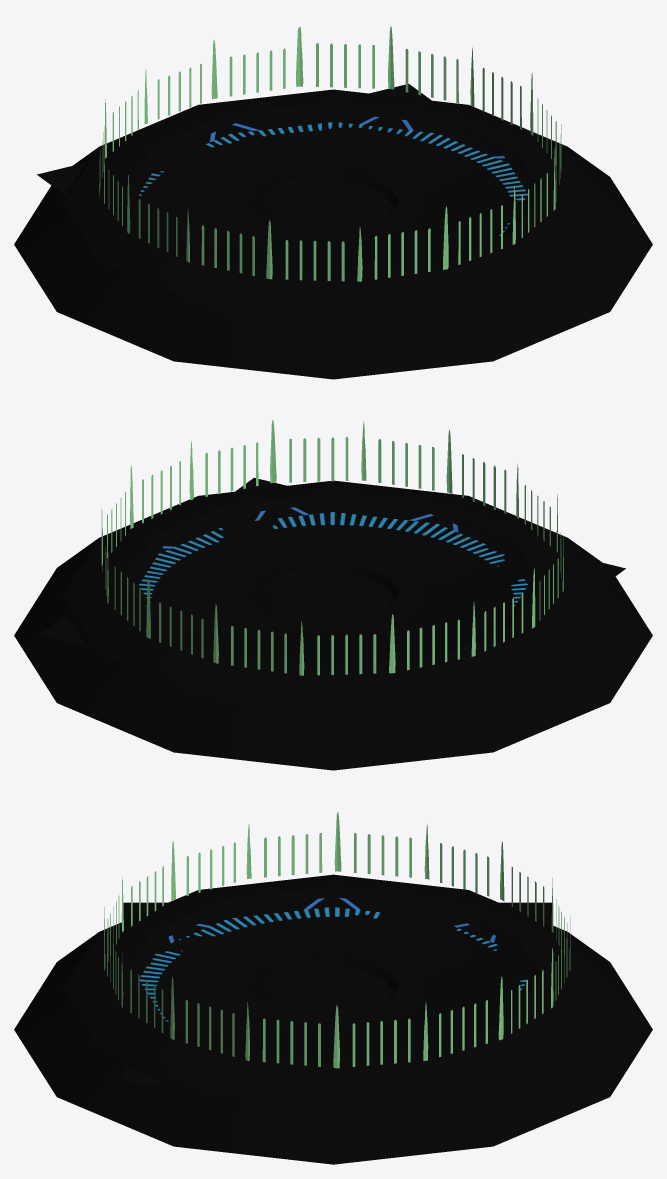
Rendered from Plate_Object.fbx.
3 renders of one model, top to bottom at view 1: azimuth 30°, elevation 25°; view 2: azimuth 150°, elevation 25°; view 3: azimuth 270°, elevation 25°, orthographic.
Visible parts, largest first — view 1: Cube, Plane.003, Cylinder, Cube.001; view 2: Cube, Plane.003, Cylinder, Cube.001; view 3: Cube, Plane.003, Cylinder, Cube.001.
Boxes of the visible parts, <box> form: Cube: <box>14,89,652,379</box>; Plane.003: <box>37,84,623,331</box>; Cylinder: <box>99,26,561,281</box>; Cube.001: <box>157,112,508,164</box>; Cube: <box>14,480,652,770</box>; Plane.003: <box>39,477,625,725</box>; Cylinder: <box>101,419,563,675</box>; Cube.001: <box>159,503,507,553</box>; Cube: <box>14,874,652,1164</box>; Plane.003: <box>122,902,552,1084</box>; Cylinder: <box>104,812,570,1068</box>; Cube.001: <box>159,897,508,949</box>.
Bounding box in the file's own units: 121 × 27.35 × 121.
